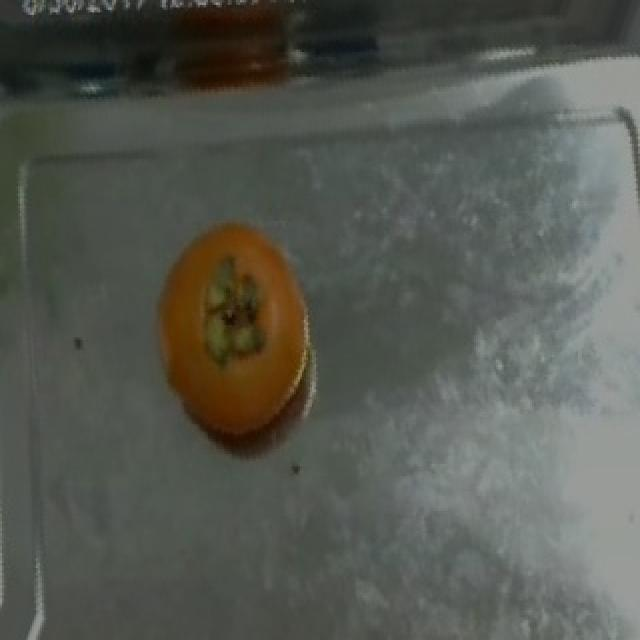Fruit: (134, 208, 334, 456)
